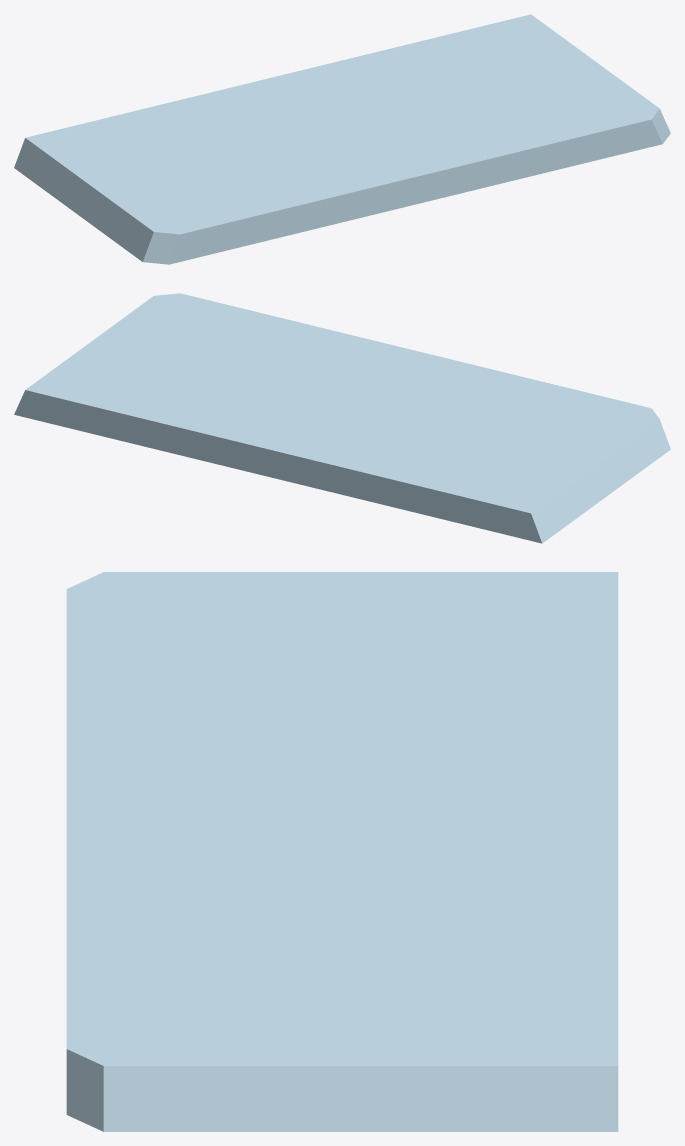
Rendered from STAM - A1.gltf.
3 renders of one model, top to bottom at view 1: azimuth 30°, elevation 25°; view 2: azimuth 150°, elevation 25°; view 3: azimuth 270°, elevation 25°, orthographic. The views are drawn at different scales.
Visible parts, largest first — view 1: A1; view 2: A1; view 3: A1.
Part boxes in pixels (x1,y1,x2,y2): A1: (14,14,670,264); A1: (14,293,670,543); A1: (66,572,618,1131).
Bounding box in the file's own units: 0.0332 × 0.00165 × 0.015.
